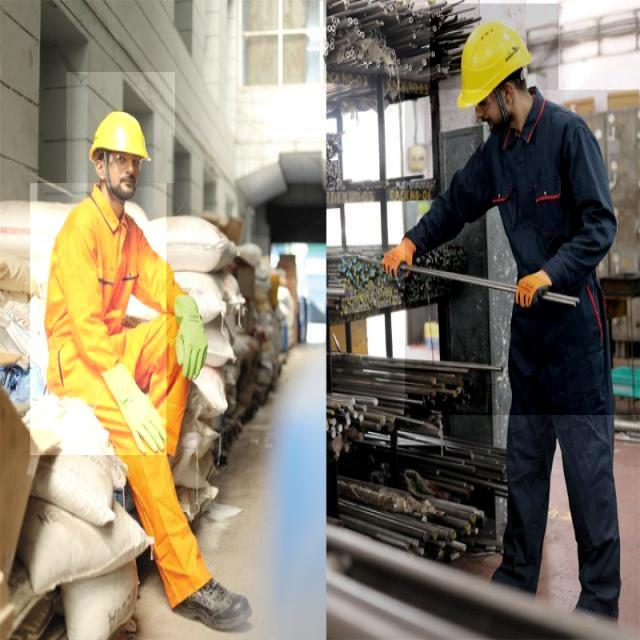Helmet: (405, 90, 640, 415), (30, 183, 166, 455), (430, 3, 558, 122), (67, 72, 175, 183)
